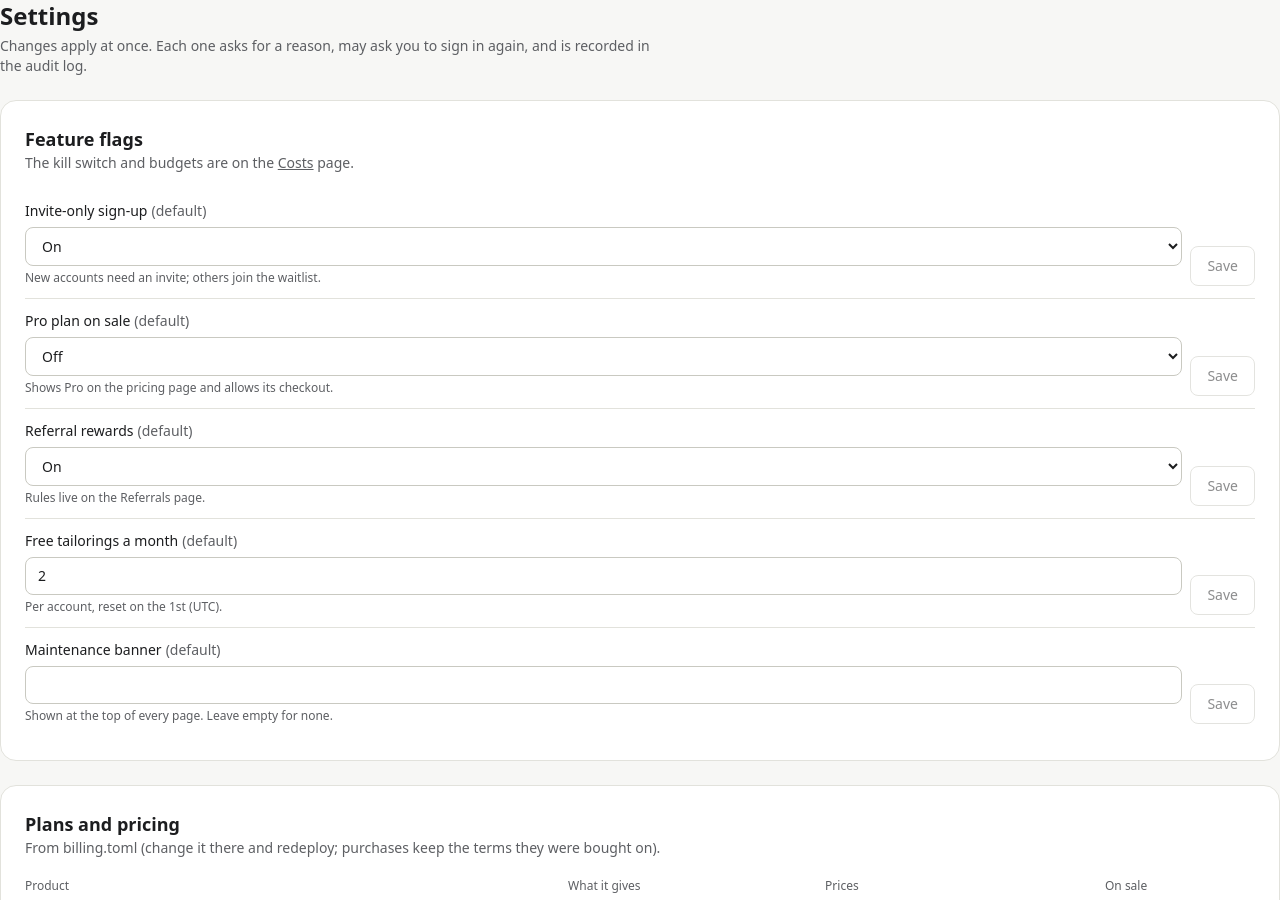
Test case: settings › lets a superadmin flip a flag and change a role, each with a reason
Select "On" in the dropdown labelled "Pro plan on sale(default)" at (604, 356), box [25,337,1182,376]
Click the 2nd button "Save" at (1223, 376), box [1190,356,1255,396]
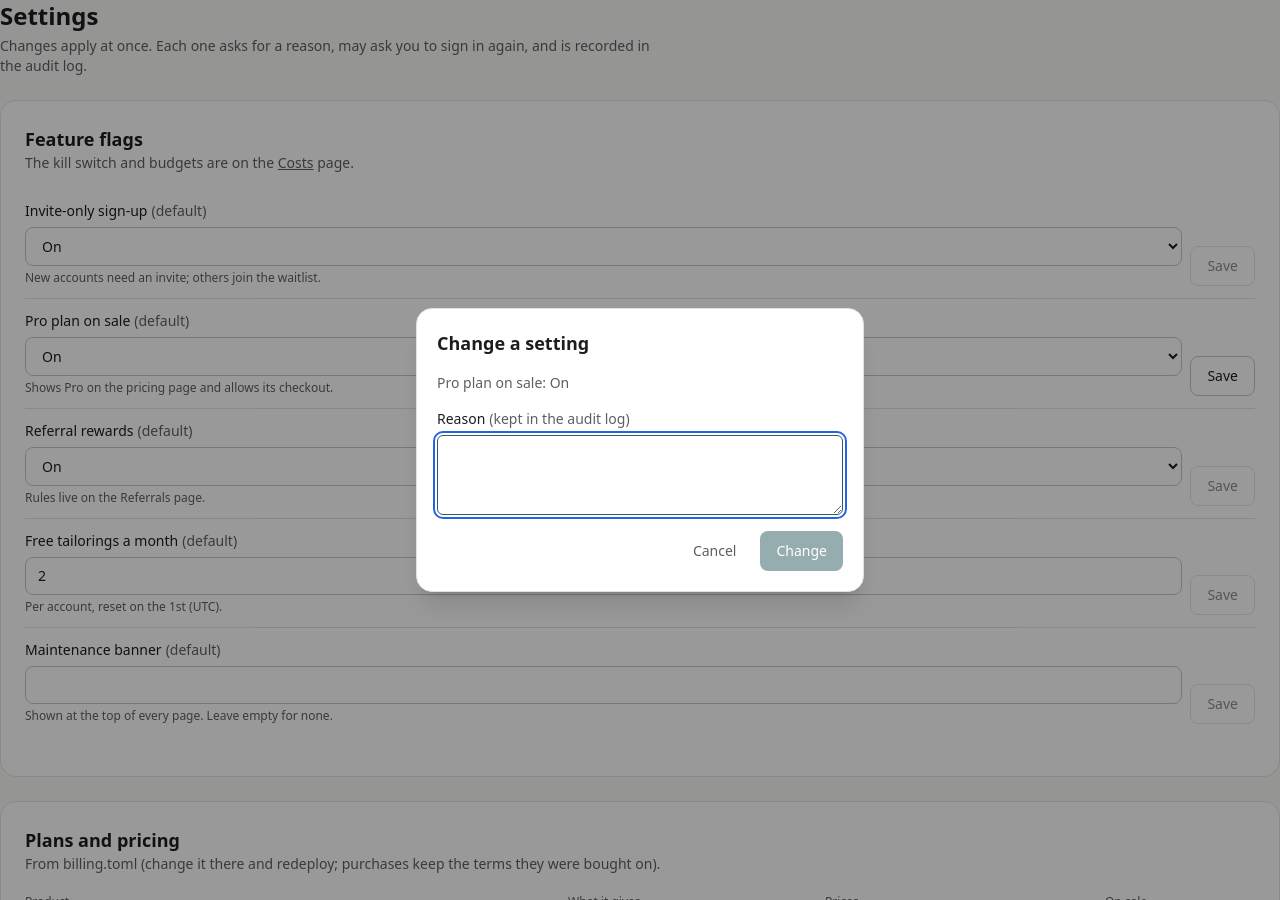
Type "launch" into the text box labelled "Reason(kept in the audit log)" at (640, 475), box [437,435,843,515]
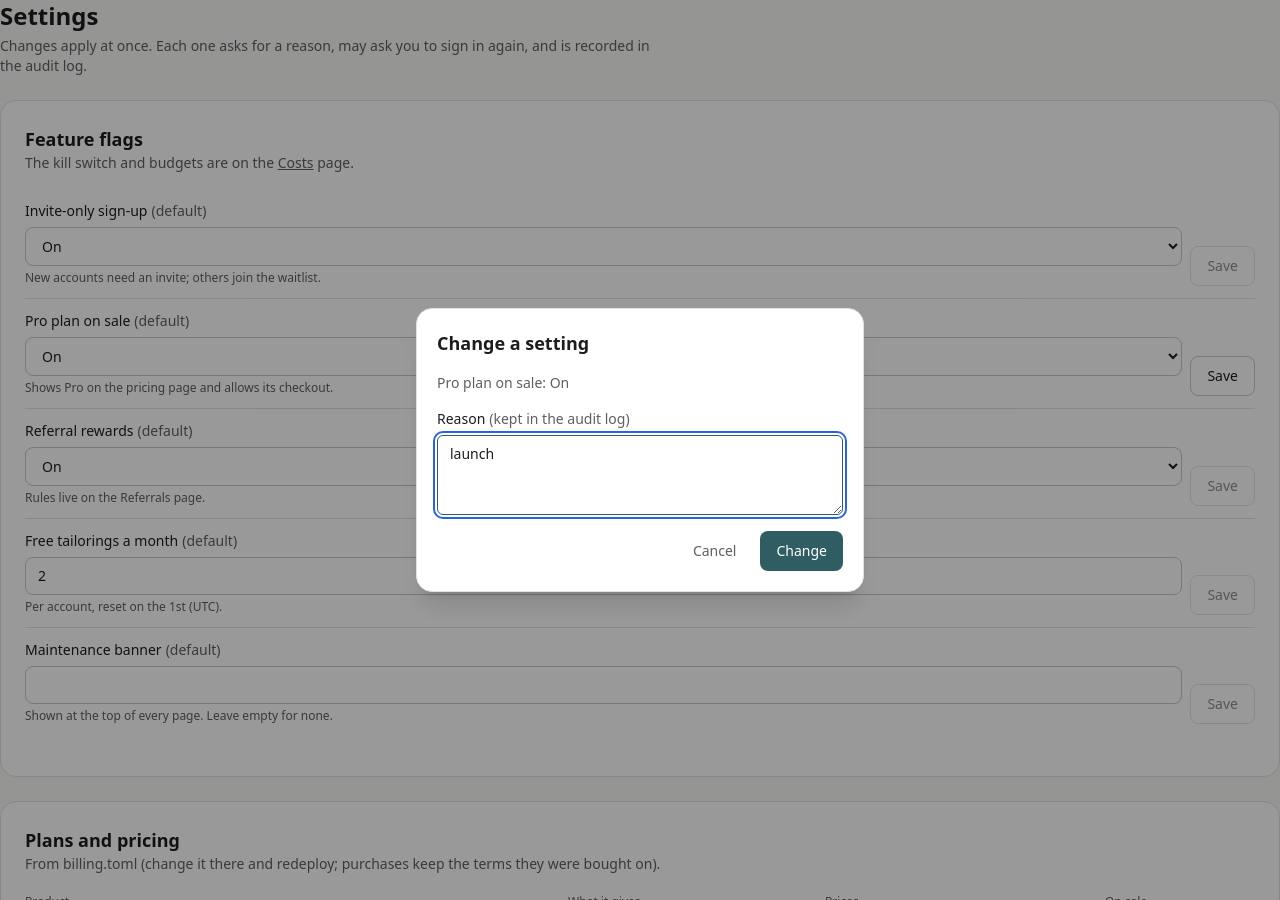
Click the button "Change" at (802, 551), box [760,531,843,571]
(page scrolled)
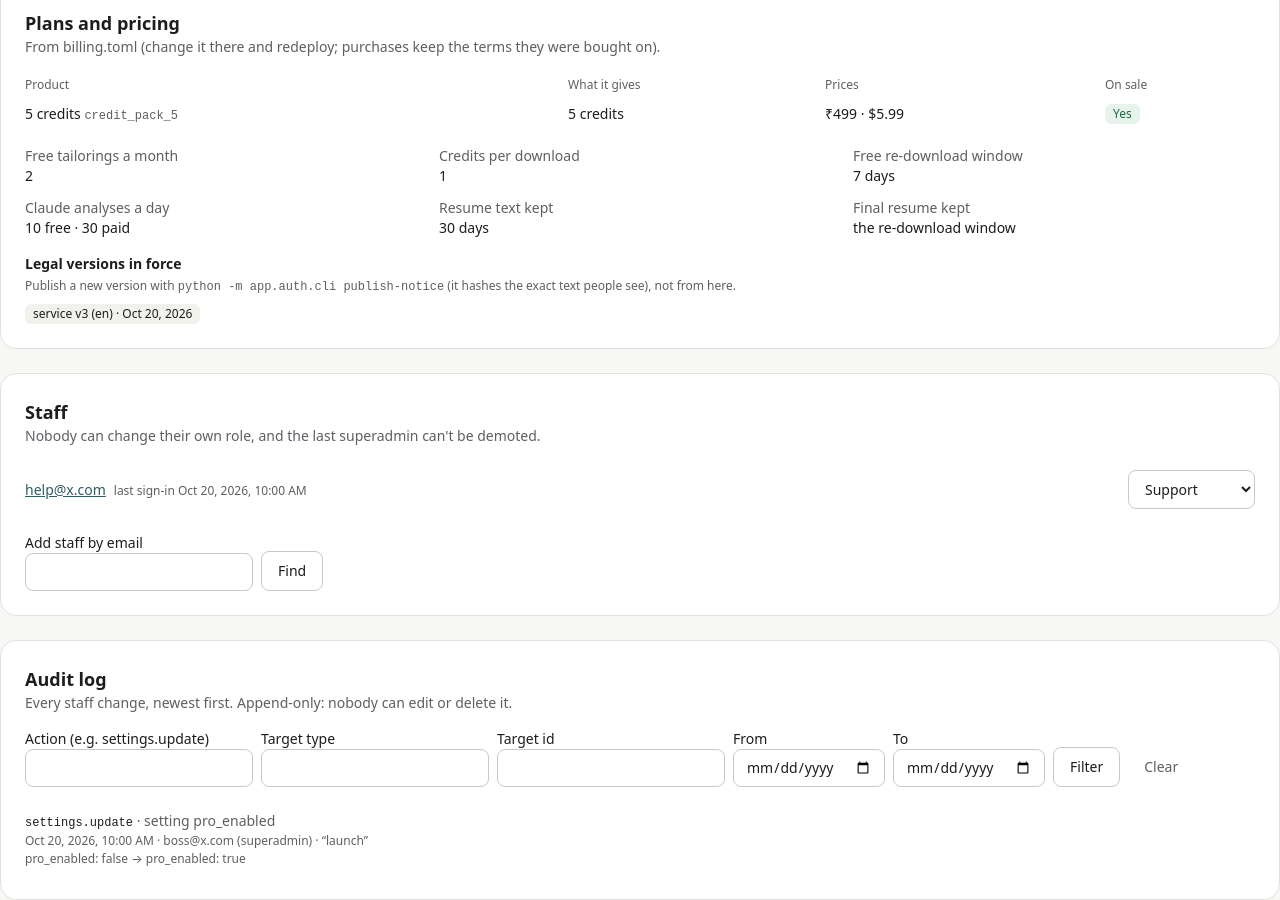
Select "Admin" in the dropdown named "Role for help@x.com" at (1192, 490), box [1128,470,1255,509]
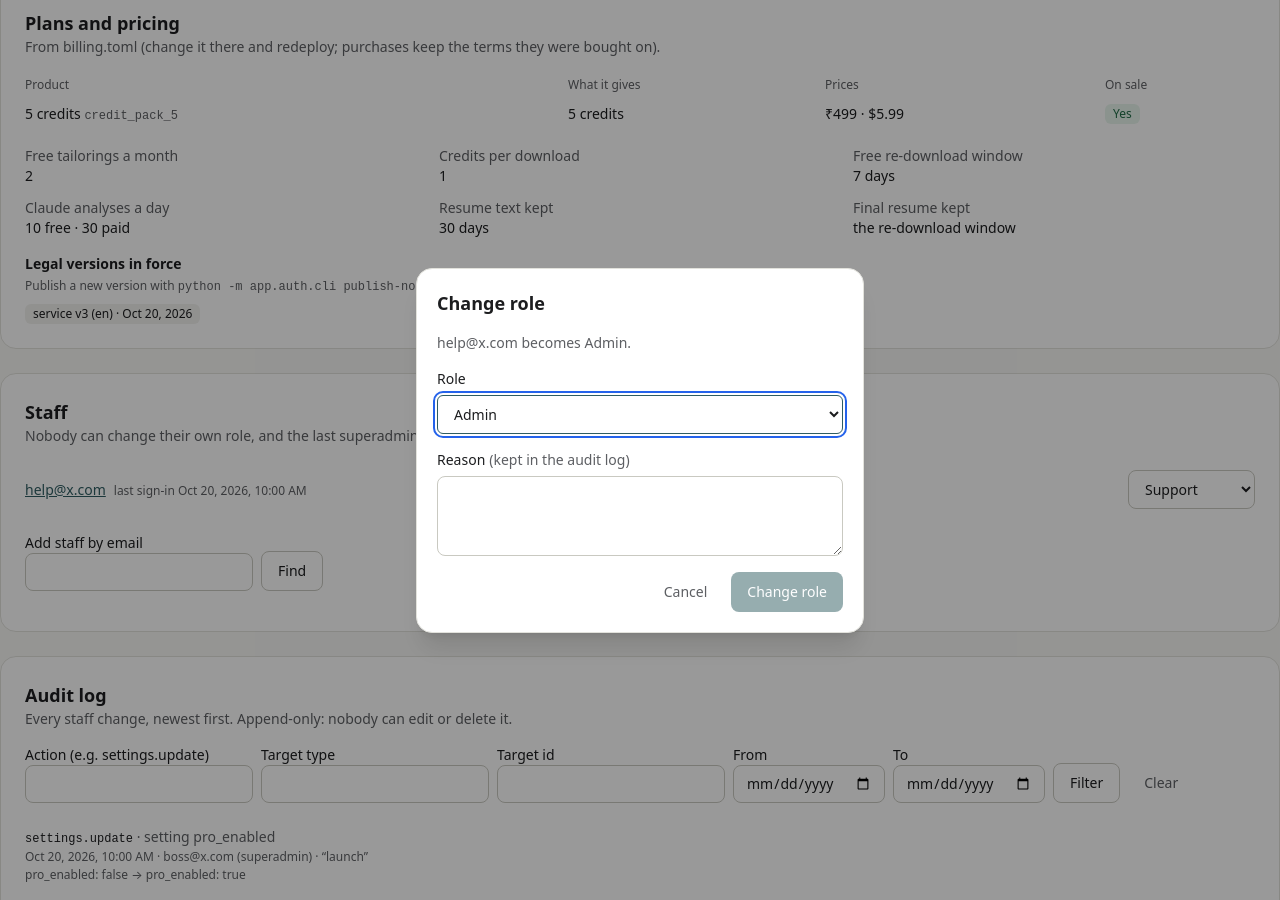
Type "promoted" into the text box labelled "Reason(kept in the audit log)" at (640, 516), box [437,476,843,556]
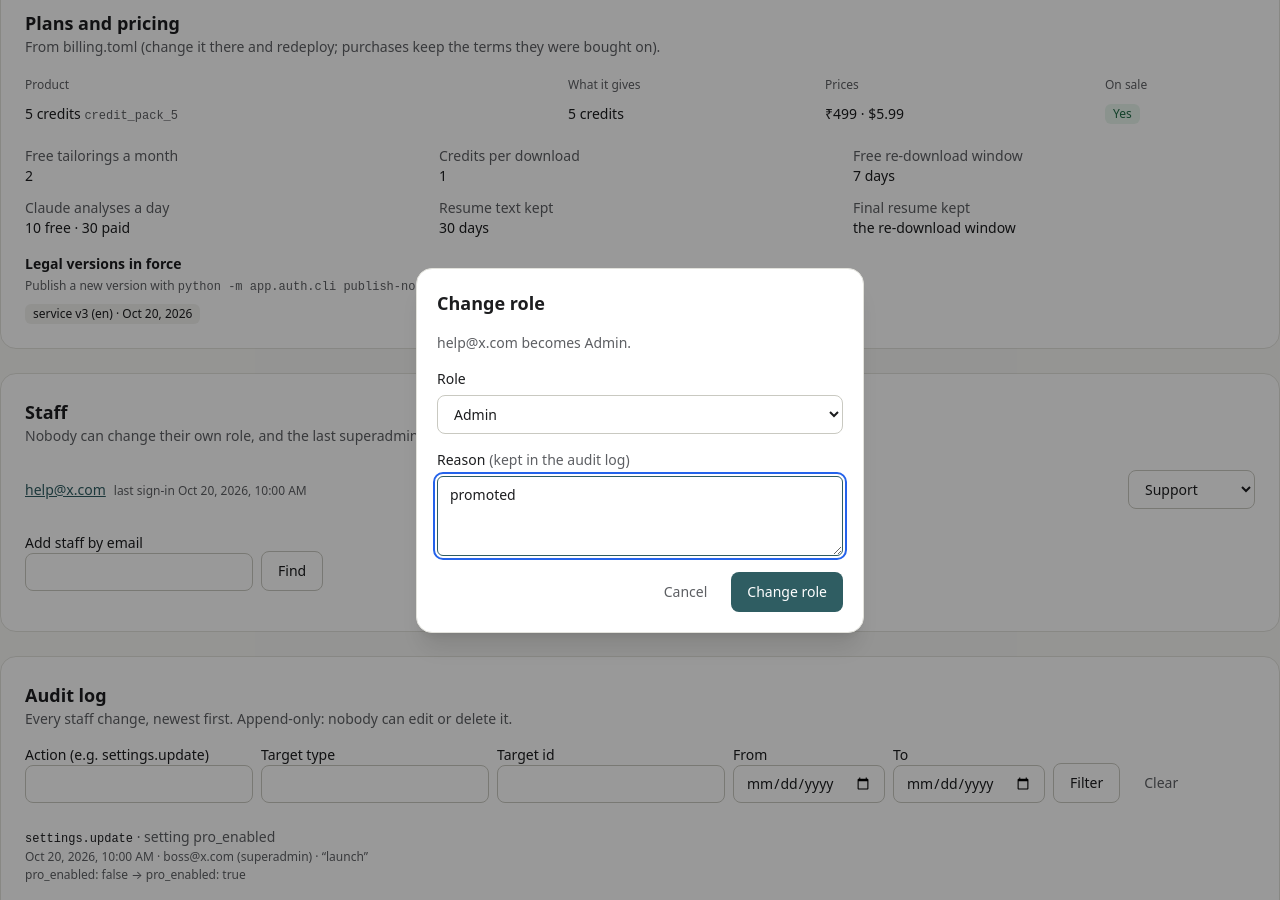
Click the button "Change role" at (787, 592), box [731,572,843,612]
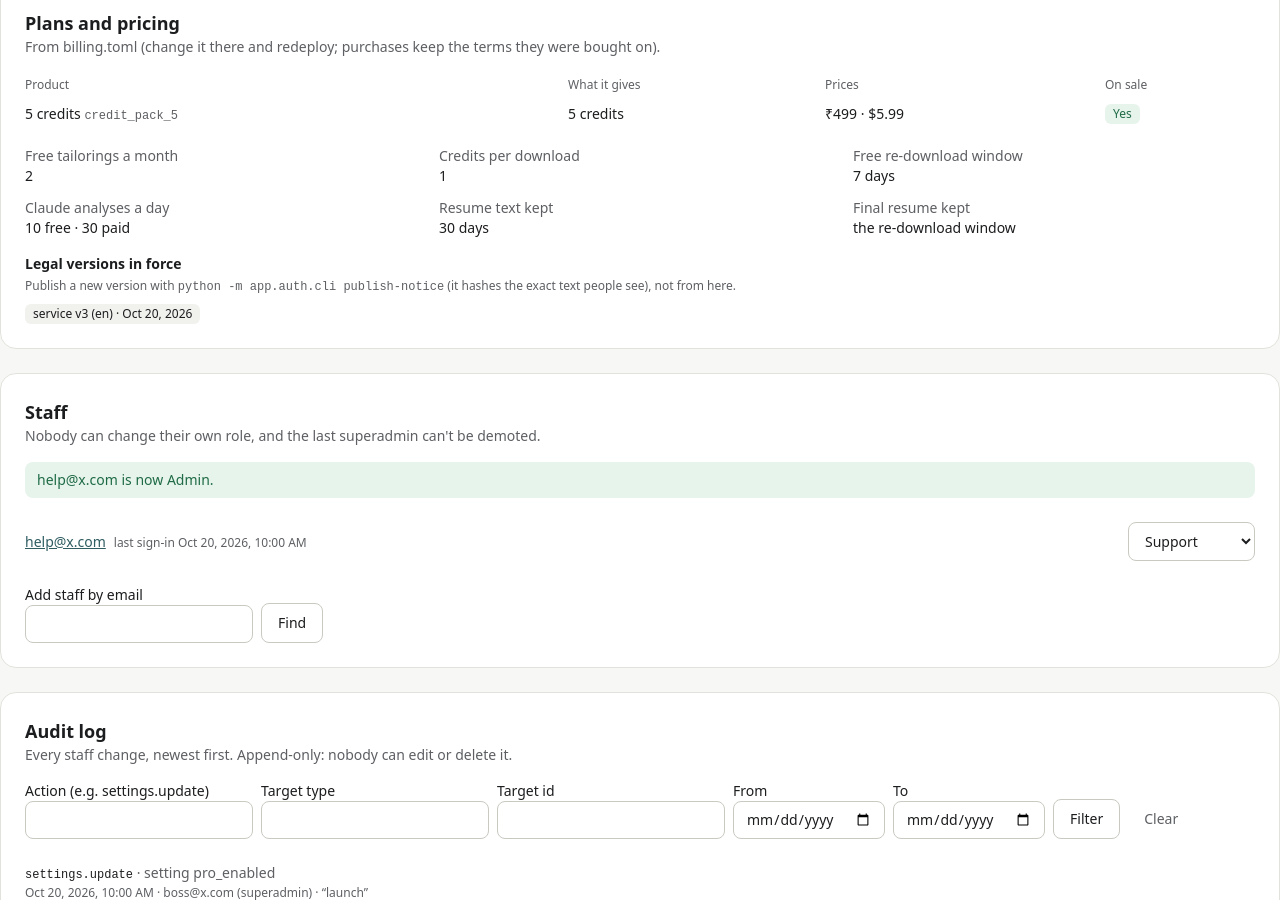
Result: the text "help@x.com is now Admin." is shown at [25,462,1255,498]
